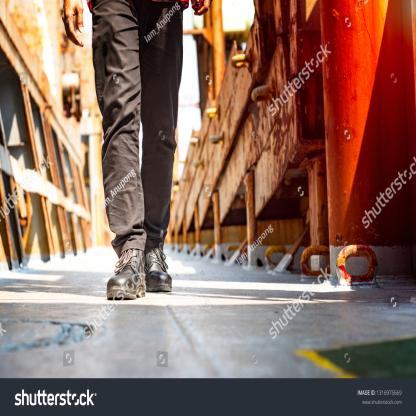bota: (105, 248, 147, 304), (144, 225, 173, 294)
